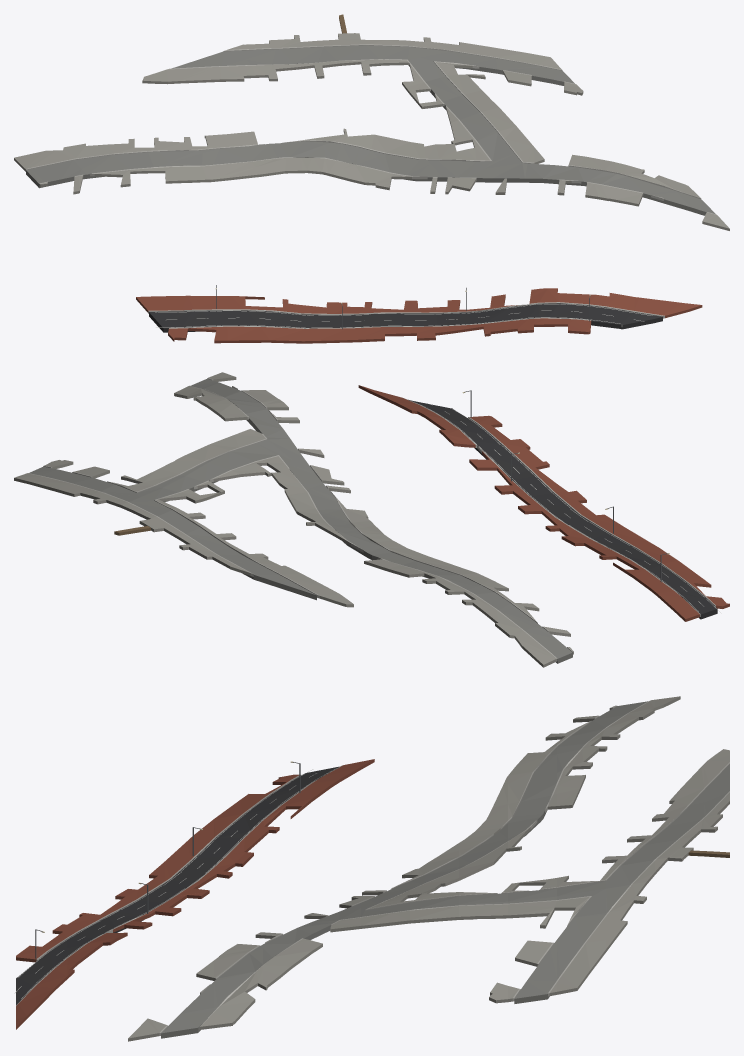
Rendered from 18-218891-118947.eec82726.glb.
3 views of the same model, one above another, from view 1: azimuth 30°, elevation 25°; view 2: azimuth 150°, elevation 25°; view 3: azimuth 270°, elevation 25° (orthographic). The views are drawn at different scales.
Bounding box in the file's own units: 149 × 31.49 × 146.
